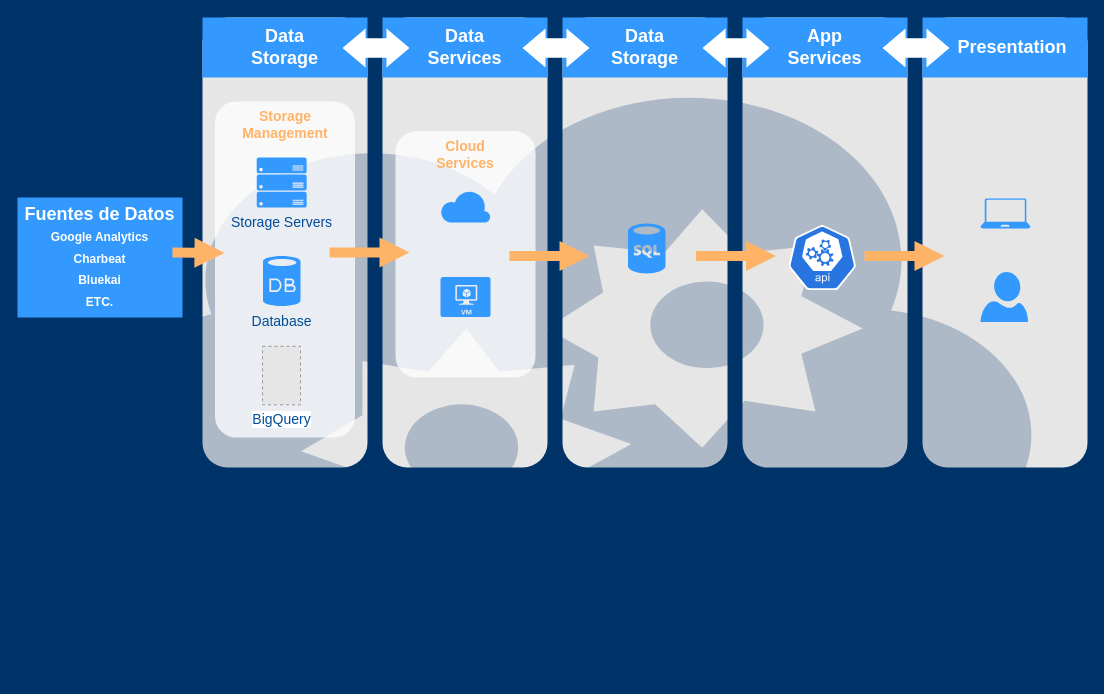
This 1104x694 diagram has some shape labels left out. Grey dashed boxes stand in for pictures. The centre of each missing label's shape, as x and y in pixels:
Aplicación: pixel 1005 213
Cloud: pixel 465 206
SQL Database: pixel 646 248
Usuarios: pixel 1004 297
Virtual Machine Modelo: pixel 465 297
